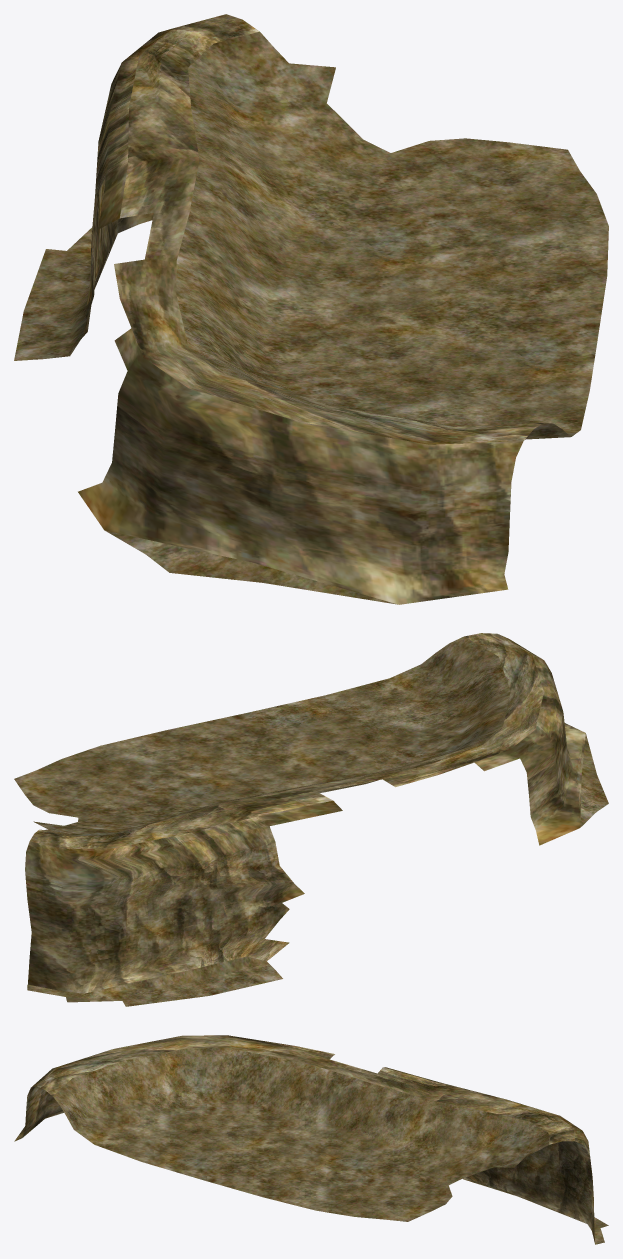
Rendered from RM_PLAYSURFACE_FINAL_MESH04.obj.
The picture shows the model from 3 angles, top to bottom: view 1: azimuth 30°, elevation 25°; view 2: azimuth 150°, elevation 25°; view 3: azimuth 270°, elevation 25°; orthographic projection. The views are drawn at different scales.
Visible parts, largest first — view 1: Mesh04; view 2: Mesh04; view 3: Mesh04.
Part boxes in pixels (left/top/right/bottom): Mesh04: left=14, top=14, right=608, bottom=604; Mesh04: left=14, top=633, right=608, bottom=1006; Mesh04: left=14, top=1035, right=608, bottom=1244.
Bounding box in the file's own units: 1783 × 537 × 2602.
